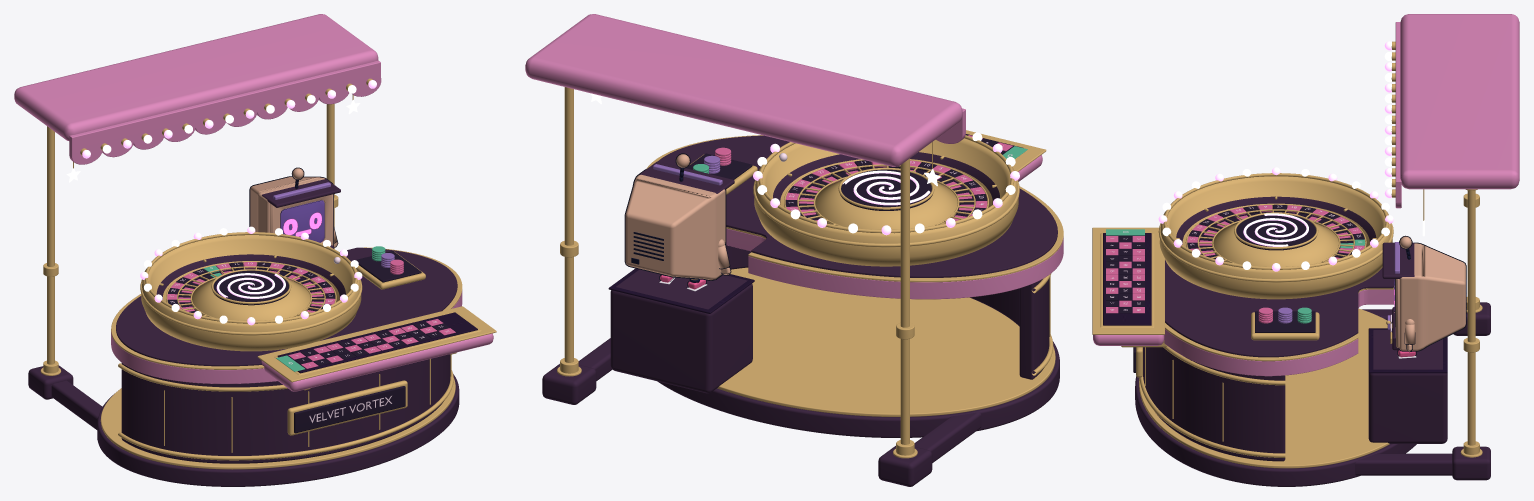
File: roulette.glb
The picture shows the model from 3 angles, left to right: view 1: azimuth 30°, elevation 25°; view 2: azimuth 150°, elevation 25°; view 3: azimuth 270°, elevation 25°; orthographic projection. The views are drawn at different scales.
Visible parts, largest first — view 1: ball_track, betting_ledge, betting_ledge_trim, bowl_outer_brass, dealer_rostrum, scalloped_valance, bet_cell_assembly, bezel, betting_mat, center_disc, EMI_glass, number_band_1 (+5 smaller); view 2: bowl_outer_brass, betting_ledge, dealer_rostrum, betting_ledge_trim, ball_track, bezel, center_disc, number_band_2, number_band_1, bet_cell_assembly, dealer_badge_text, betting_mat (+2 smaller); view 3: betting_ledge, bowl_outer_brass, dealer_rostrum, ball_track, betting_ledge_trim, bezel, bet_cell_assembly, betting_mat, center_disc, number_band_2, number_band_1, scalloped_valance (+6 smaller).
Part boxes in pixels (bbox=[...]): ball_track: bbox=[97, 254, 459, 486]; betting_ledge: bbox=[14, 14, 493, 391]; betting_ledge_trim: bbox=[40, 78, 496, 460]; bowl_outer_brass: bbox=[100, 235, 455, 469]; dealer_rostrum: bbox=[28, 247, 457, 429]; scalloped_valance: bbox=[69, 60, 381, 164]; bet_cell_assembly: bbox=[178, 251, 455, 433]; bezel: bbox=[249, 167, 338, 247]; betting_mat: bbox=[277, 312, 477, 373]; center_disc: bbox=[213, 270, 289, 305]; EMI_glass: bbox=[280, 200, 324, 242]; number_band_1: bbox=[167, 262, 335, 312]; bowl_outer_brass: bbox=[717, 138, 1055, 416]; betting_ledge: bbox=[525, 14, 1063, 299]; dealer_rostrum: bbox=[542, 135, 1057, 486]; betting_ledge_trim: bbox=[557, 87, 1063, 458]; ball_track: bbox=[657, 152, 1059, 437]; bezel: bbox=[624, 153, 731, 287]; center_disc: bbox=[840, 169, 932, 210]; number_band_2: bbox=[785, 160, 987, 220]; number_band_1: bbox=[785, 160, 987, 220]; bet_cell_assembly: bbox=[686, 134, 1012, 217]; dealer_badge_text: bbox=[639, 161, 734, 193]; betting_mat: bbox=[608, 134, 1022, 313]; betting_ledge: bbox=[1093, 14, 1519, 376]; bowl_outer_brass: bbox=[1139, 176, 1392, 468]; dealer_rostrum: bbox=[1165, 260, 1490, 480]; ball_track: bbox=[1135, 196, 1416, 486]; betting_ledge_trim: bbox=[1092, 41, 1482, 457]; bezel: bbox=[1394, 235, 1466, 356]; bet_cell_assembly: bbox=[1106, 211, 1353, 372]; betting_mat: bbox=[1103, 233, 1447, 373]; center_disc: bbox=[1236, 215, 1316, 250]; number_band_2: bbox=[1187, 204, 1364, 259]; number_band_1: bbox=[1187, 205, 1364, 259]; scalloped_valance: bbox=[1395, 22, 1401, 208].
Bounding box in the file's own units: 3.14 × 2.64 × 3.3.
Materials: 19 (2 with a texture image).
